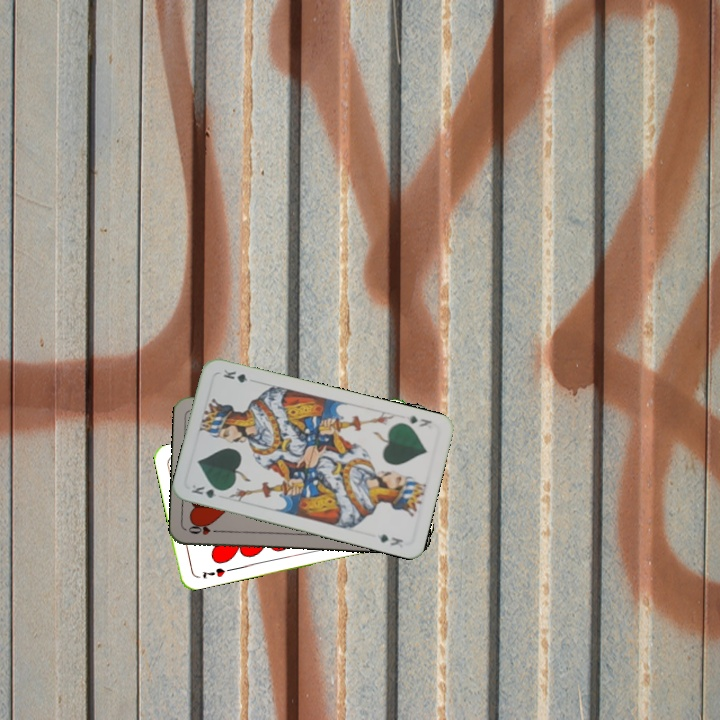GK: (187, 481, 227, 501), (406, 411, 434, 430)
H7: (198, 564, 228, 581)
HO: (184, 521, 225, 538)
